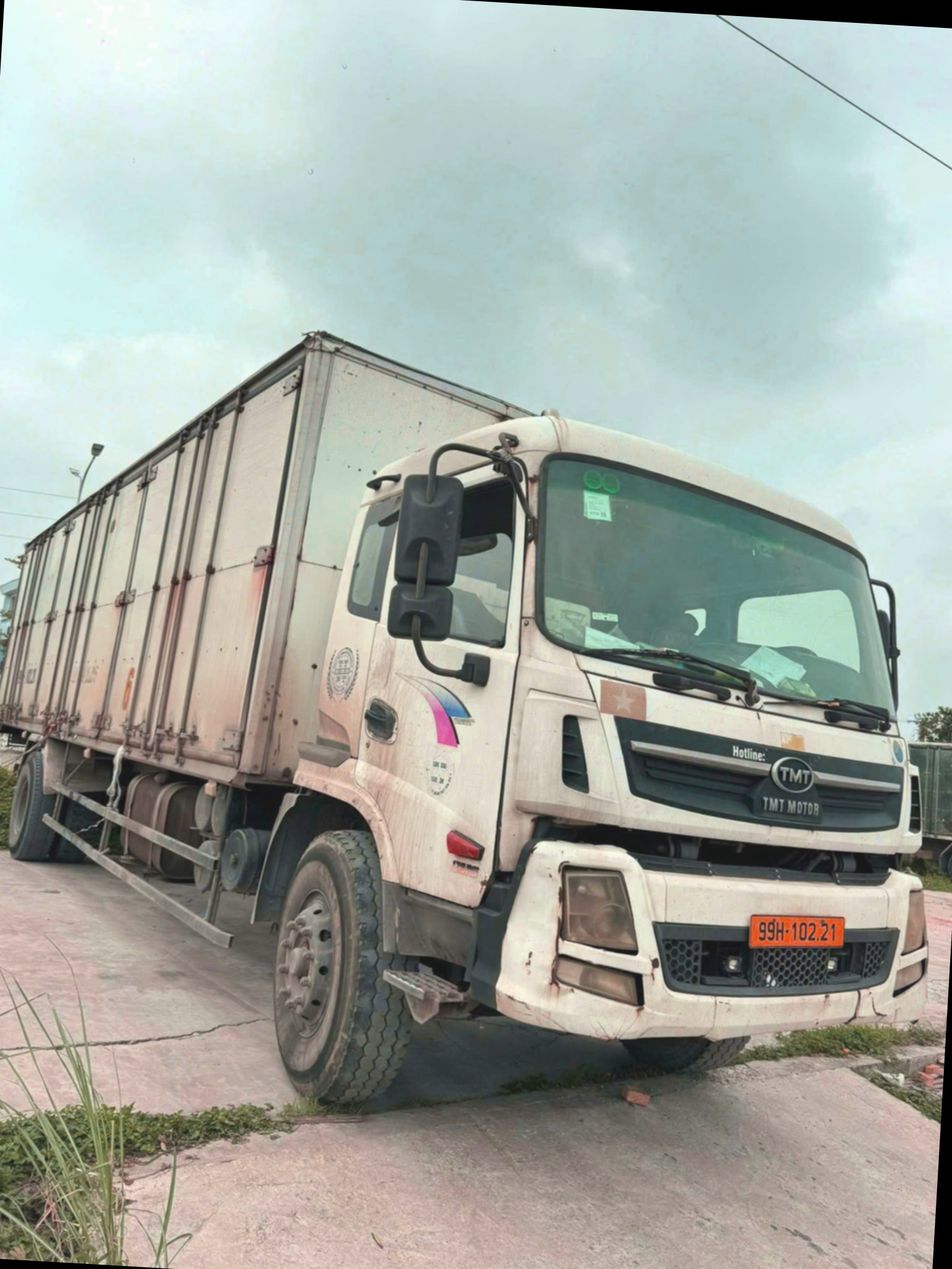Bien-so: (757, 881, 844, 922)
